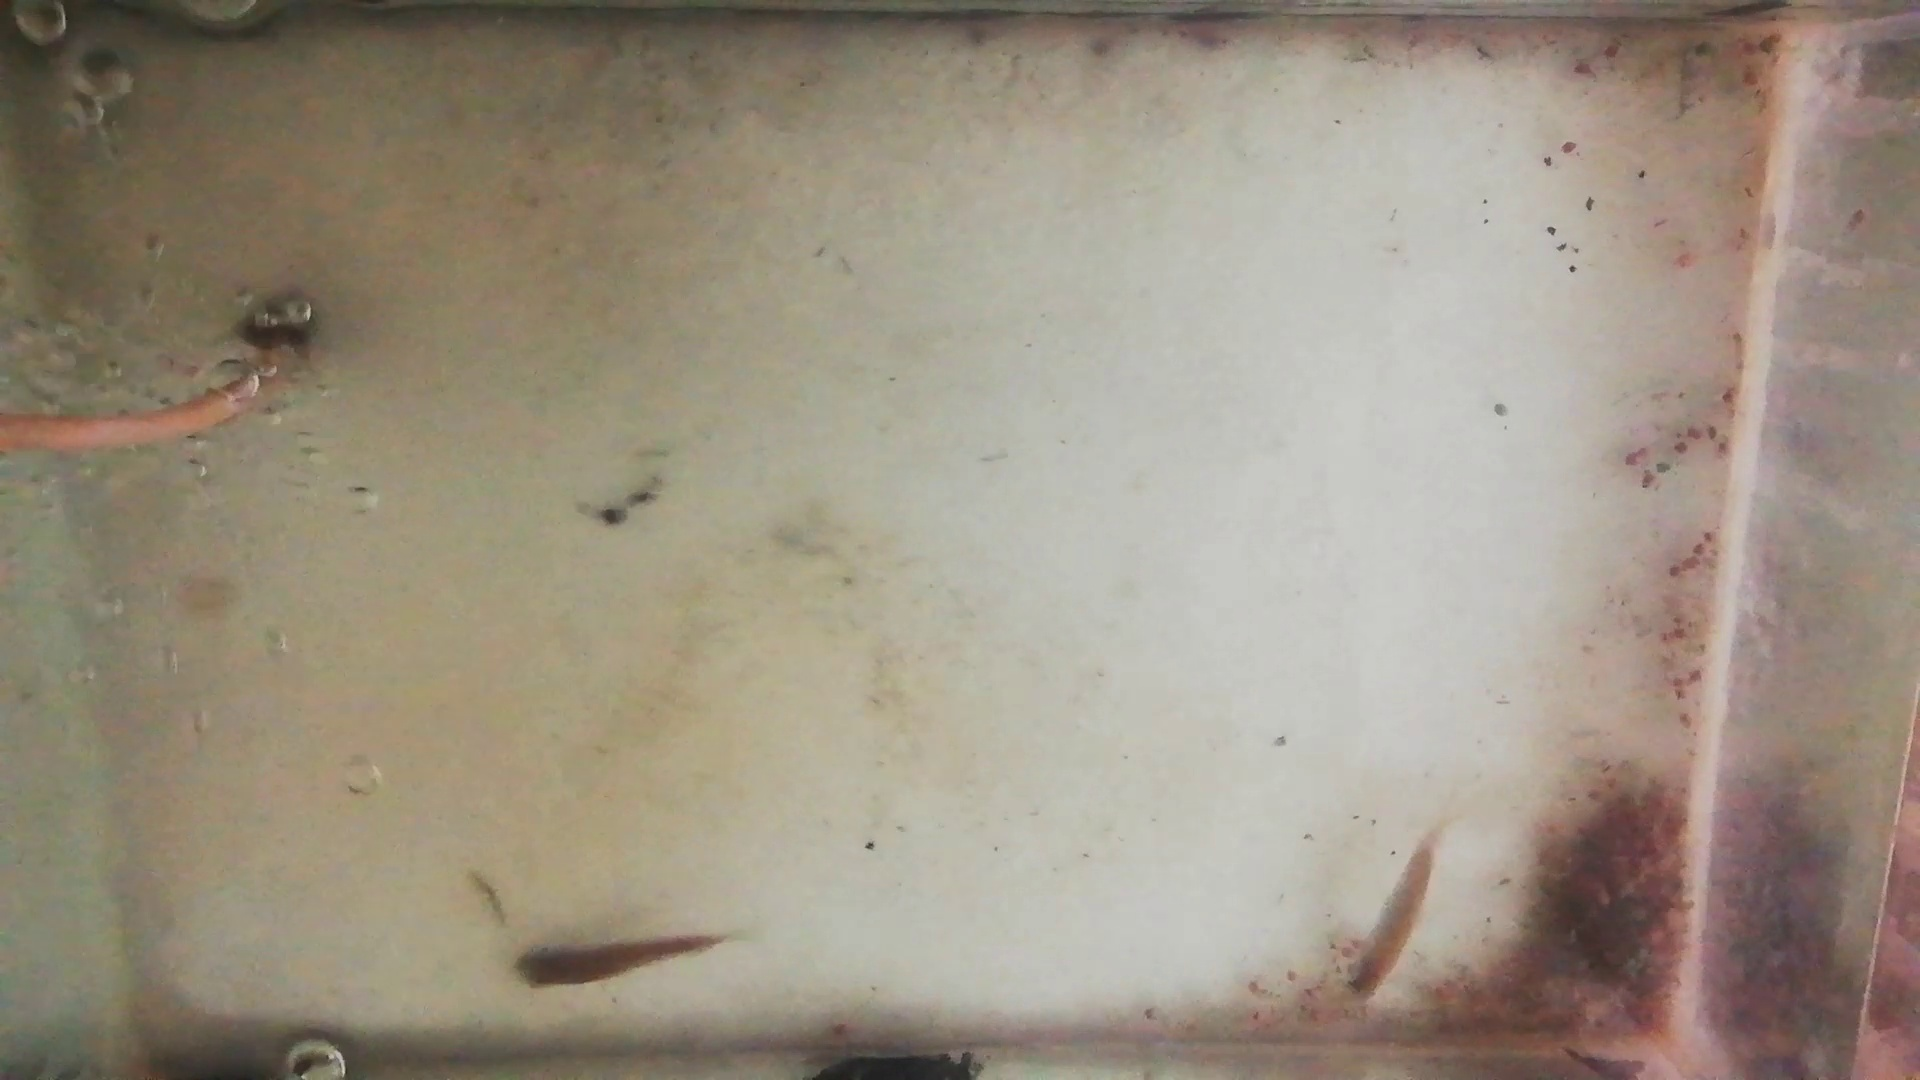fish: (1349, 837, 1440, 1000), (513, 934, 724, 992)
